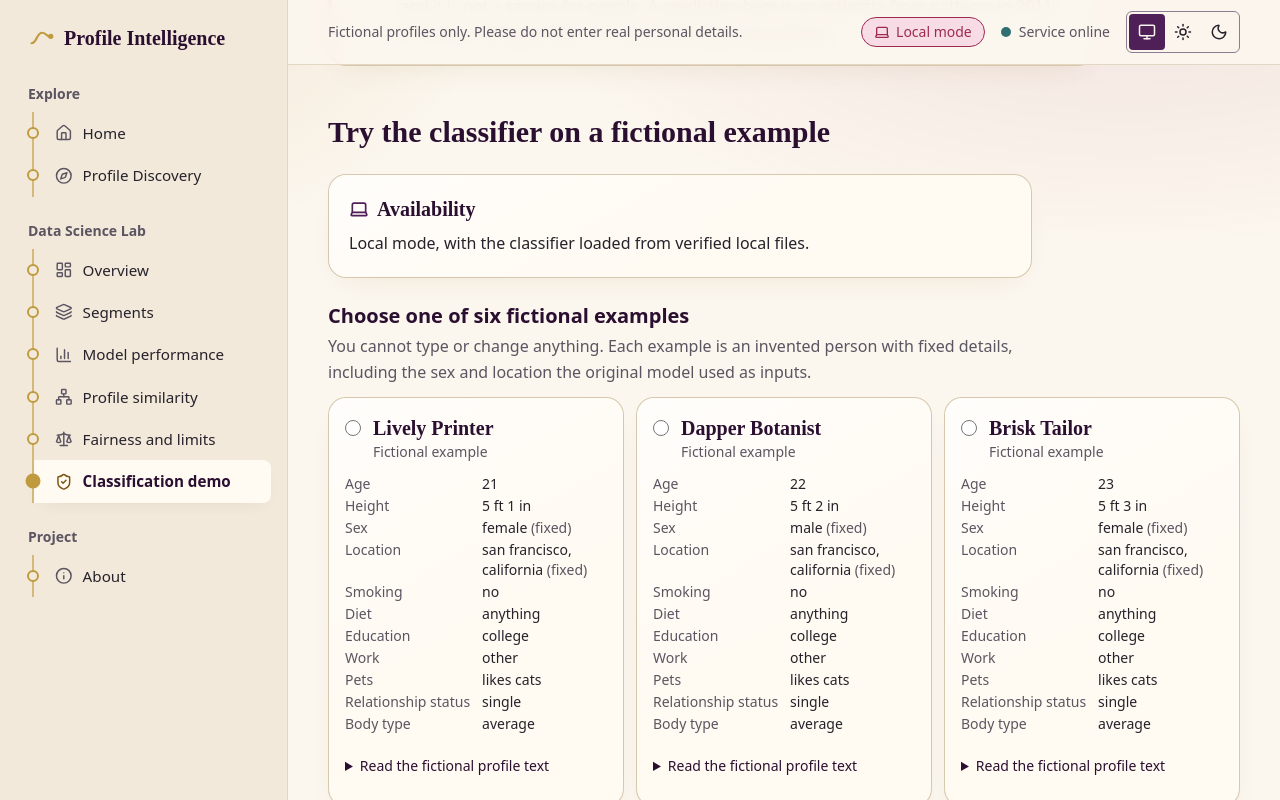
Test: the demonstration in local mode › stores nothing in the browser
The width and height of the screenshot is (1280, 800).
(page scrolled)
Click the radio button labelled "Brisk Tailor Fictional example".
click(969, 428)  # box 961,420 -> 977,436
(page scrolled)
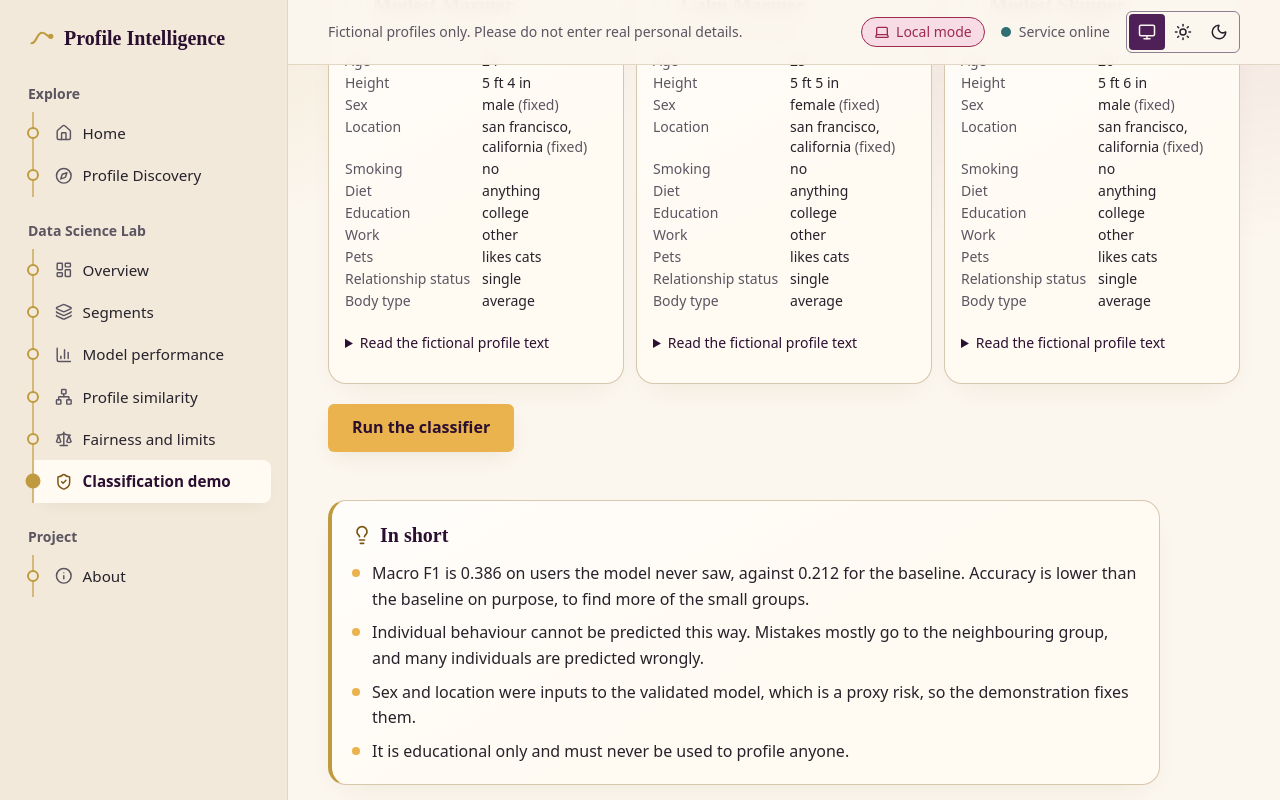
Click the button "Run the classifier".
click(421, 428)  # box 328,404 -> 514,452
(page scrolled)
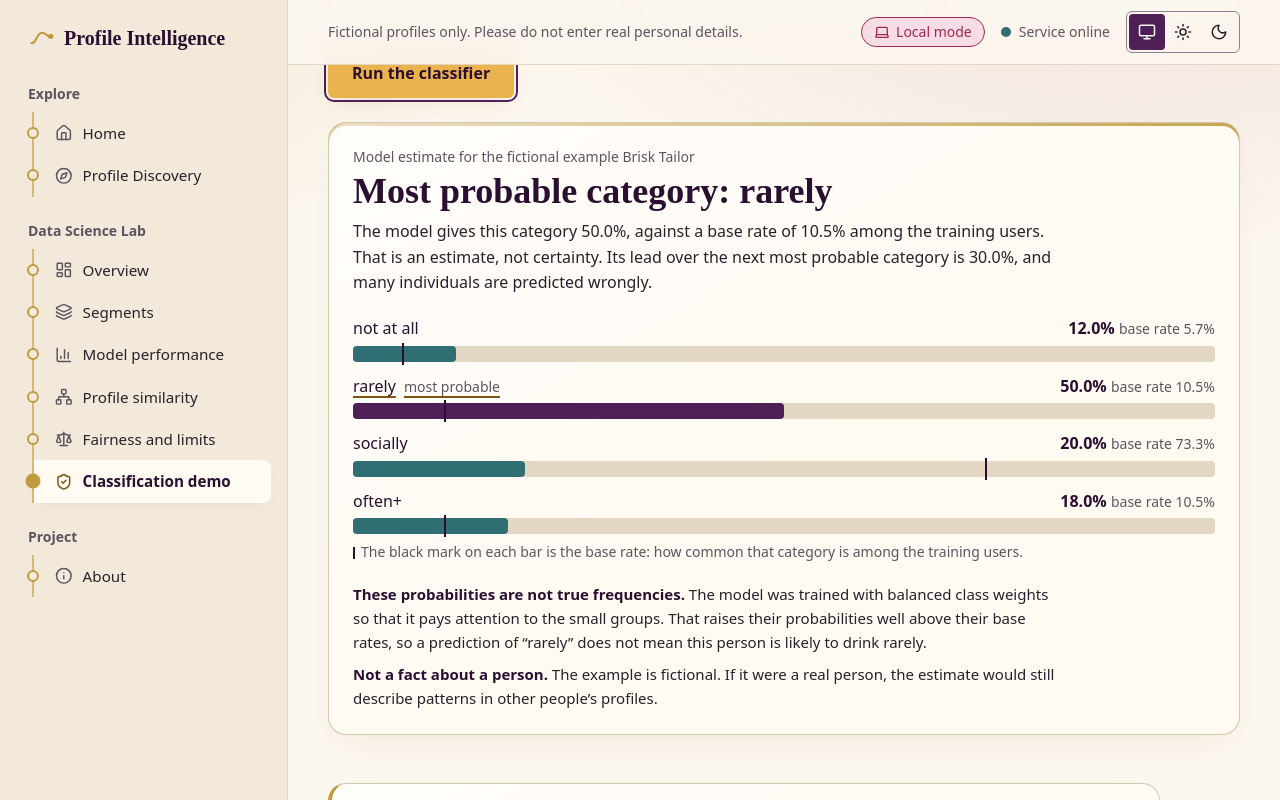
Expected: the element with test id "prediction" is shown, 328,122 -> 1240,735
